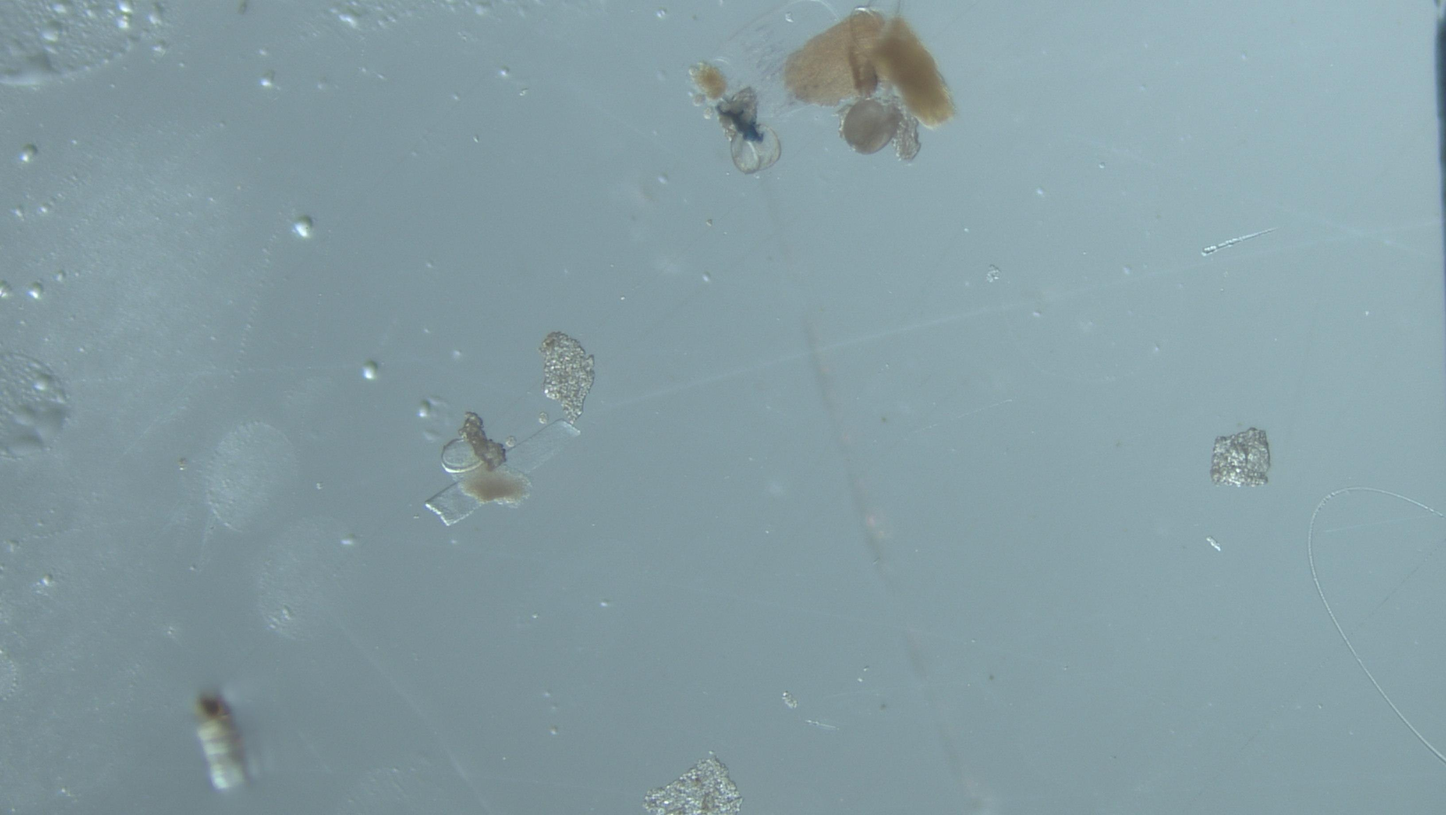dead: (498, 419, 580, 485), (426, 438, 484, 525), (426, 481, 482, 527), (730, 126, 780, 174), (441, 438, 484, 477)
live: (840, 99, 902, 155)
